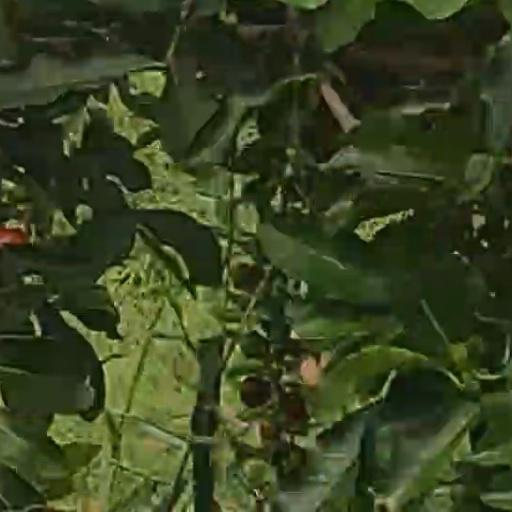acerola: (1, 227, 33, 246)
